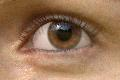eye: (49, 22, 80, 49)
